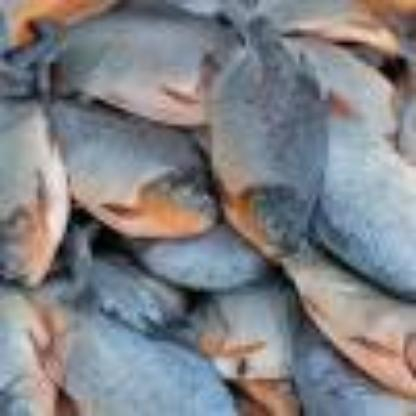ikan-pacu: (204, 0, 328, 256), (46, 96, 214, 238), (25, 4, 215, 114), (54, 304, 238, 414), (0, 96, 68, 284)
